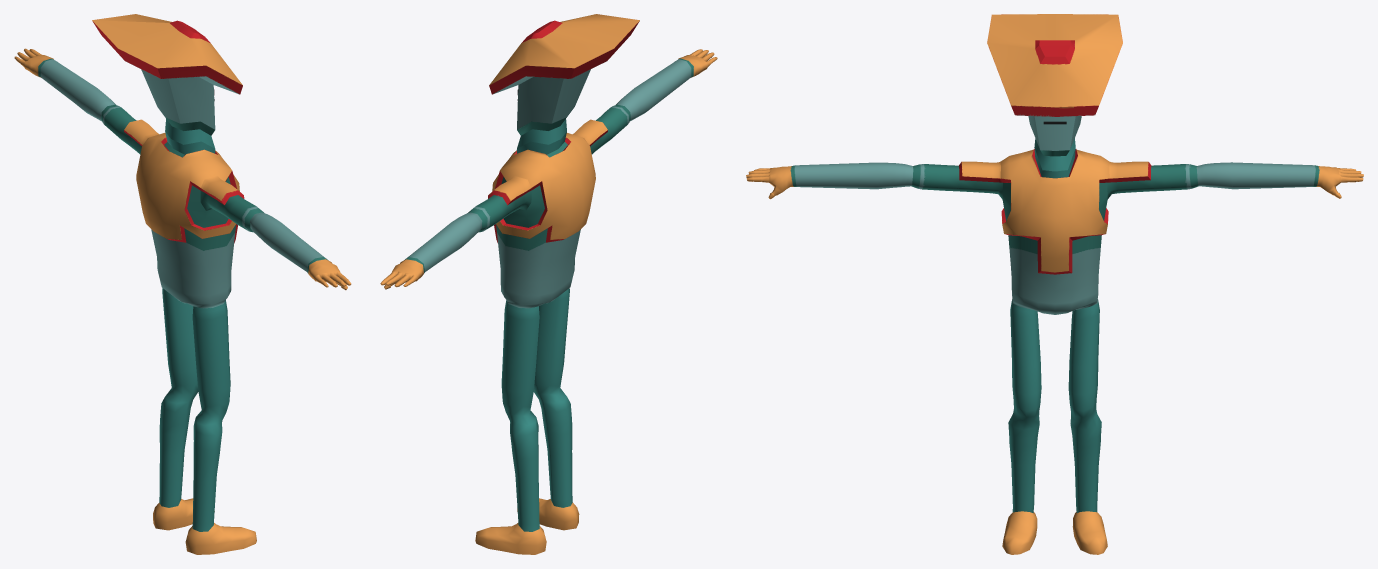
File: tposing_avatars_mowchok.glb
3 views of the same model, side by side, from view 1: azimuth 30°, elevation 25°; view 2: azimuth 150°, elevation 25°; view 3: azimuth 270°, elevation 25° (orthographic). The views are drawn at different scales.
Visible parts, largest first — view 1: _100Avatars_122_Mowchok; view 2: _100Avatars_122_Mowchok; view 3: _100Avatars_122_Mowchok.
Boxes of the visible parts, x1,y1,x2,y2 form: _100Avatars_122_Mowchok: (14, 14, 351, 554); _100Avatars_122_Mowchok: (380, 14, 717, 554); _100Avatars_122_Mowchok: (746, 14, 1363, 554).
Bounding box in the file's own units: 1.01 × 4.19 × 4.78.
Materials: 1 (1 with a texture image).
